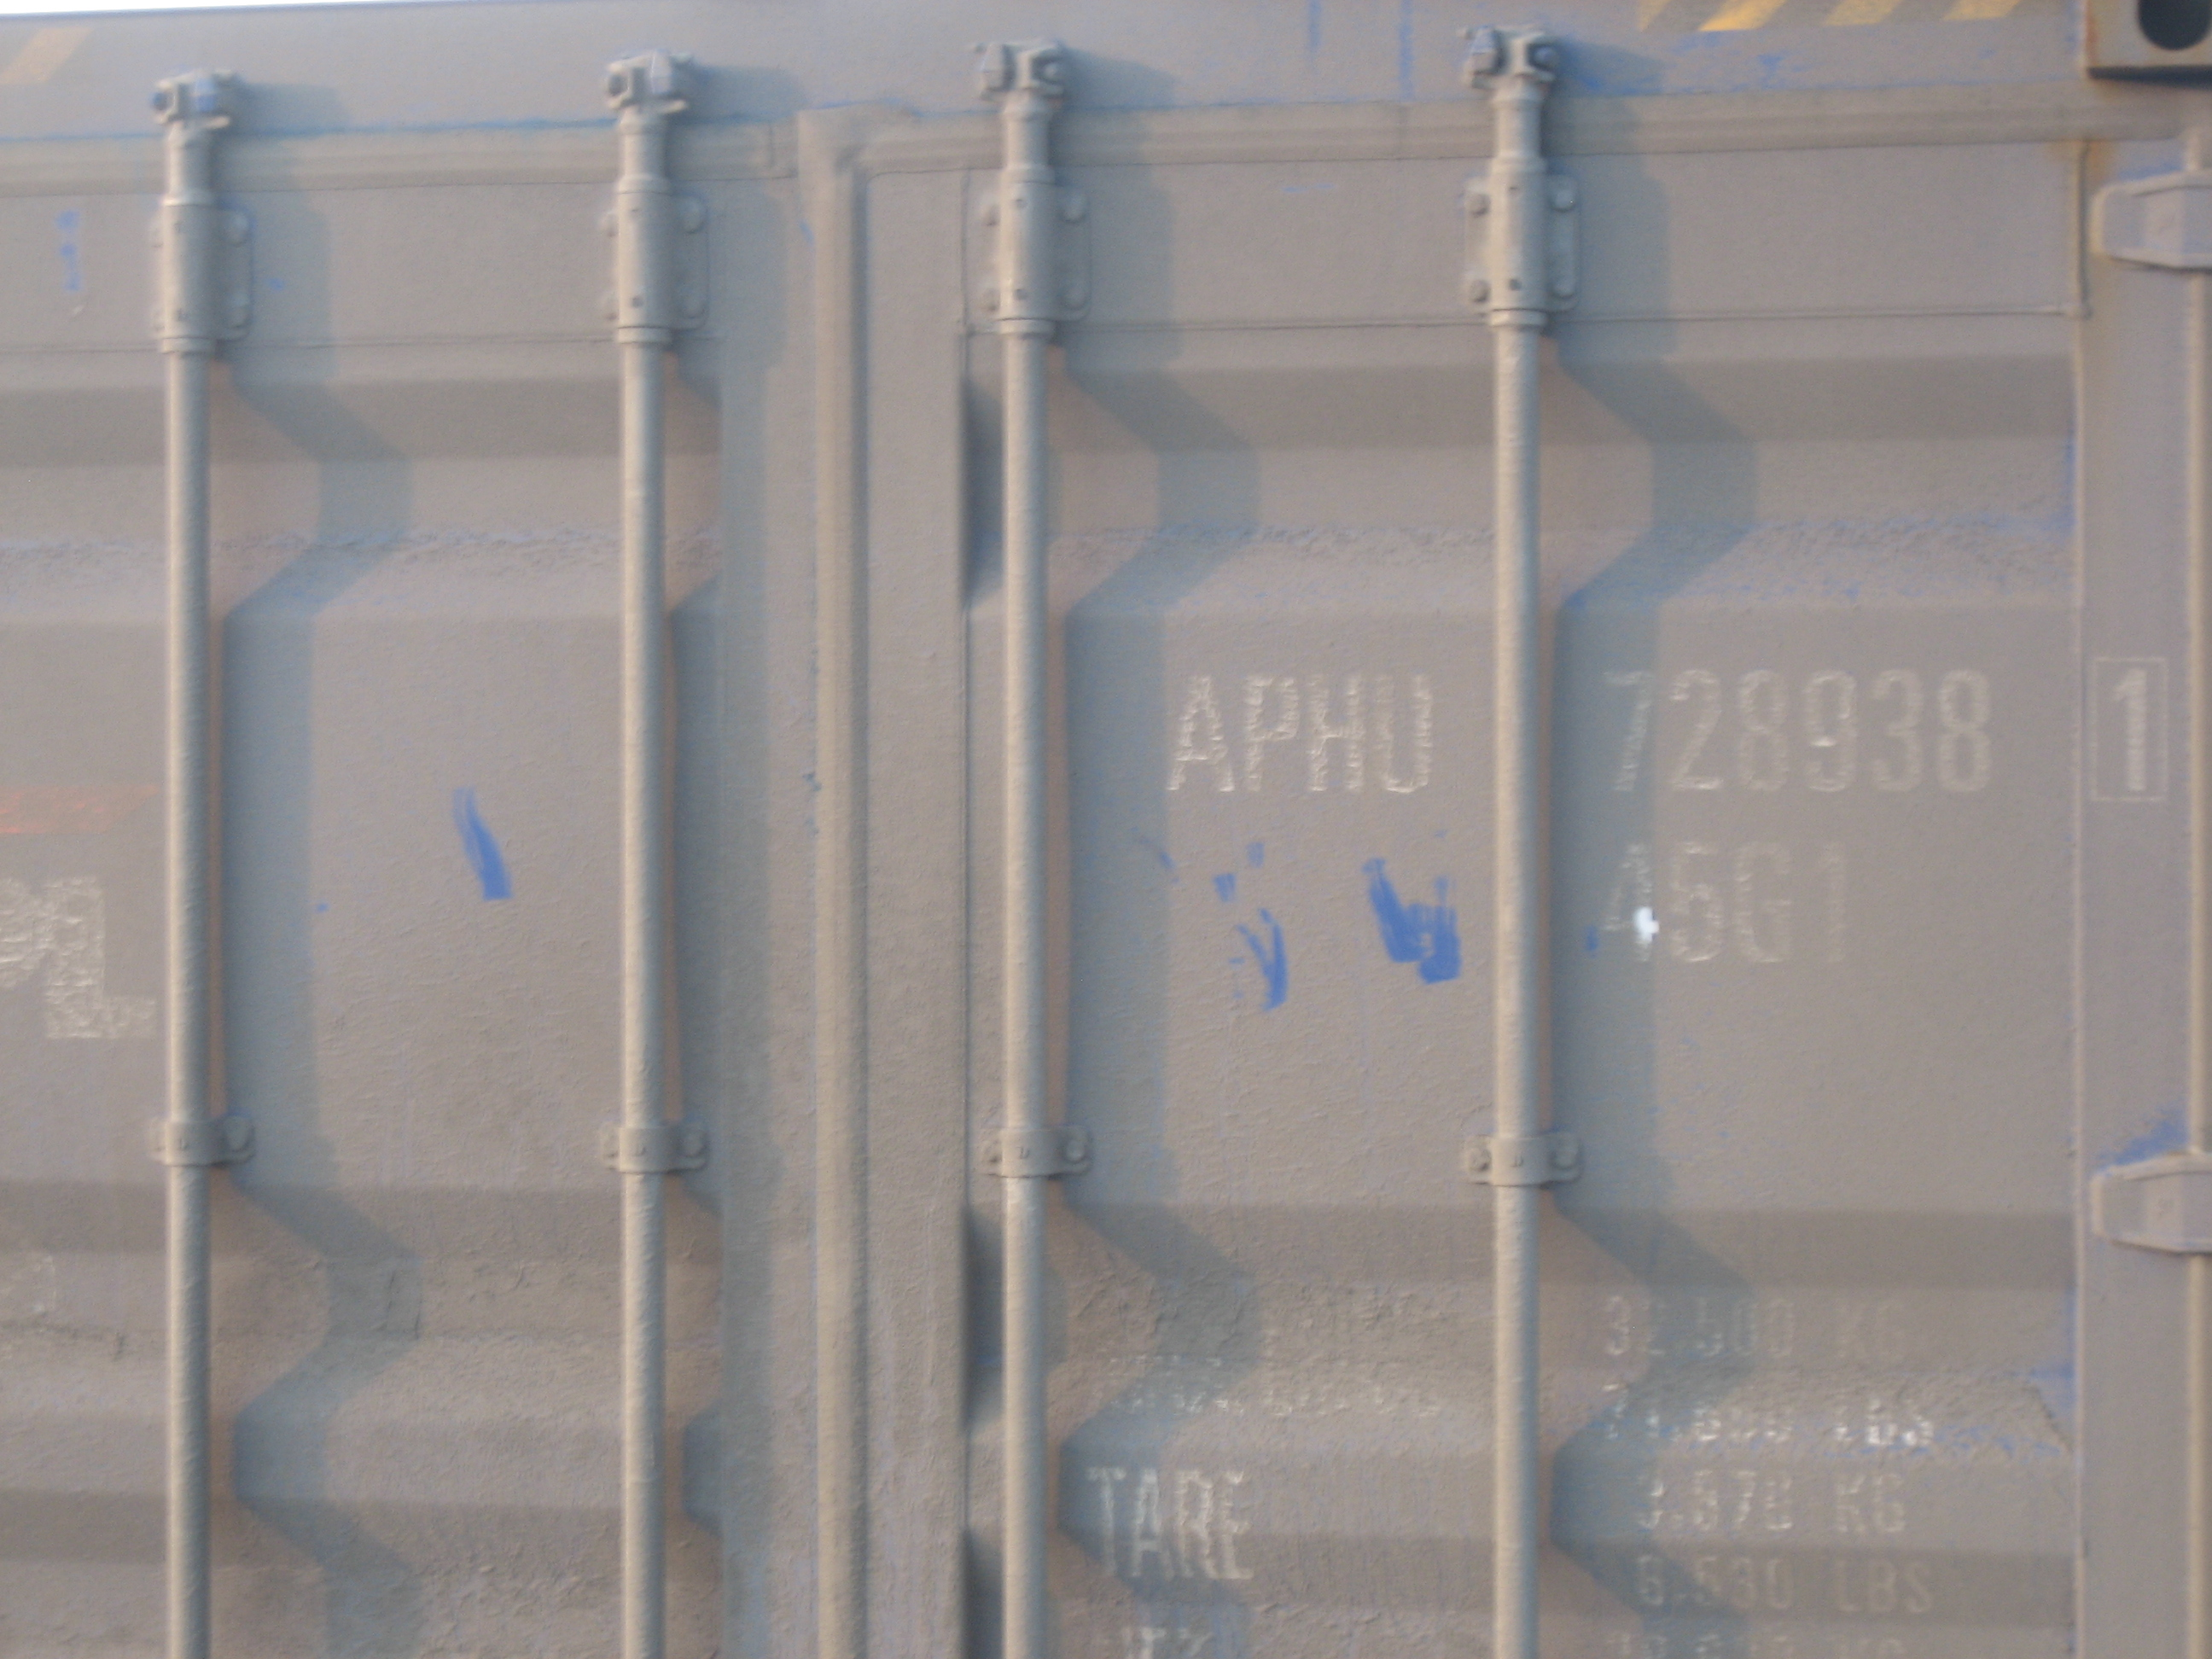container_door: (30, 33, 2188, 1640)
